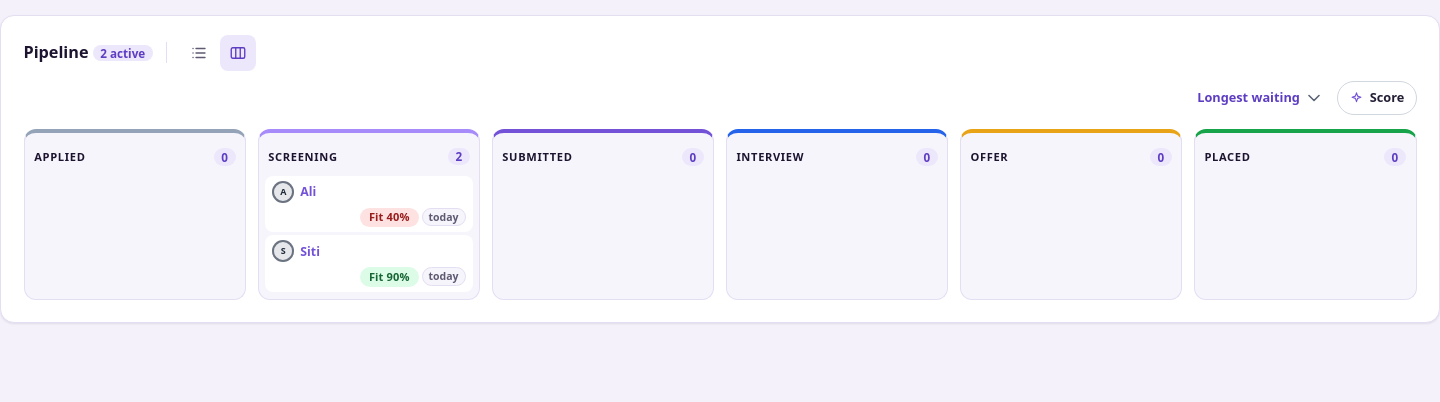
Test: fit on a job's board › scores the chosen people again, and says when everyone is scored already
Expected: the text "Fit 90%" is shown, [360, 267, 419, 287]
Click the button "Score": (1377, 98) [1337, 81, 1416, 115]
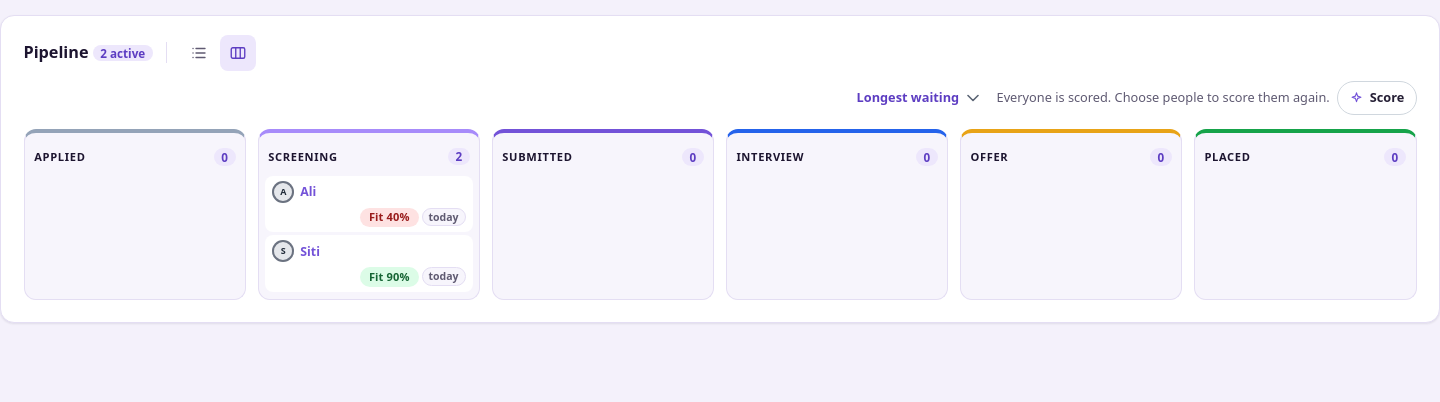
Expected: the text "Everyone is scored. Choose people to score them again." is shown, [996, 88, 1330, 108]
Click the link "Siti": (310, 251) [300, 243, 320, 260]
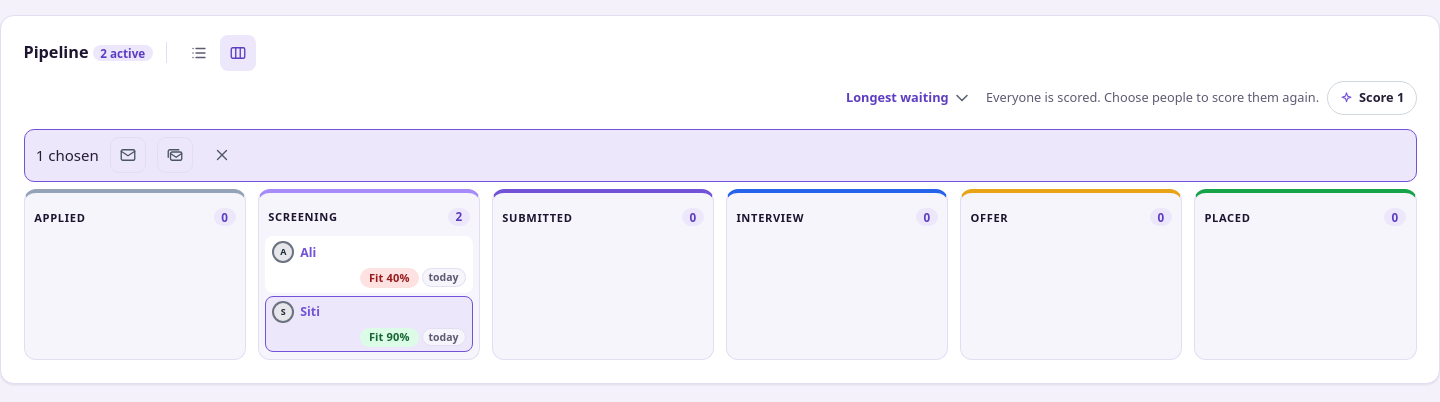
Click the button "Score 1": (1372, 98) [1327, 81, 1416, 115]
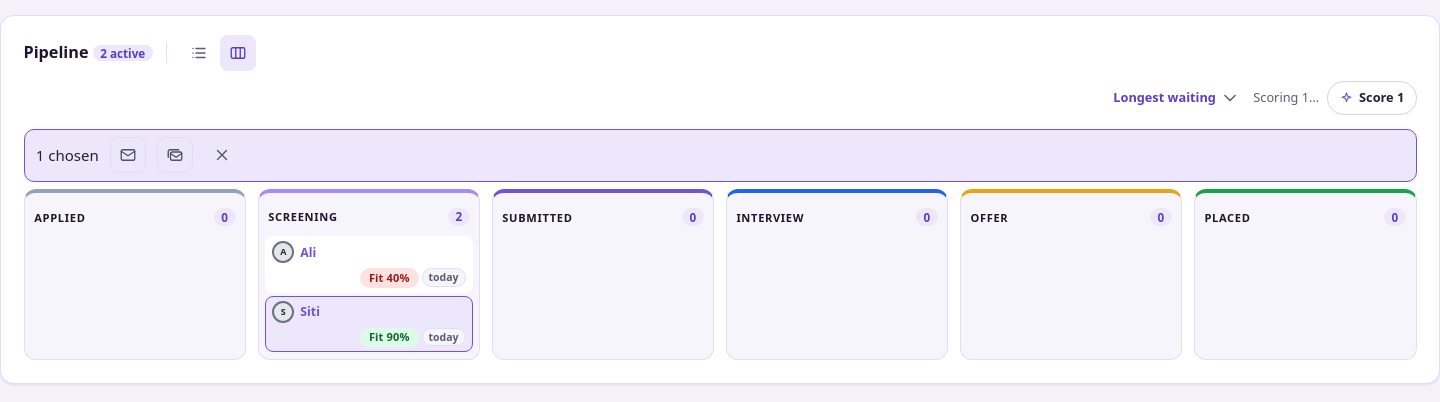
Expected: the text "Scoring 1…" is shown, [1253, 88, 1319, 108]
